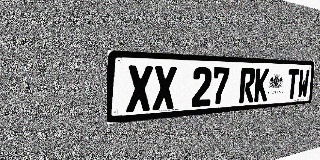2: (191, 67, 212, 107)
7: (211, 67, 230, 106)
K: (254, 68, 269, 102)
R: (239, 68, 256, 103)
T: (286, 69, 299, 99)
W: (297, 69, 310, 98)
X: (126, 65, 153, 113), (152, 66, 177, 110)
